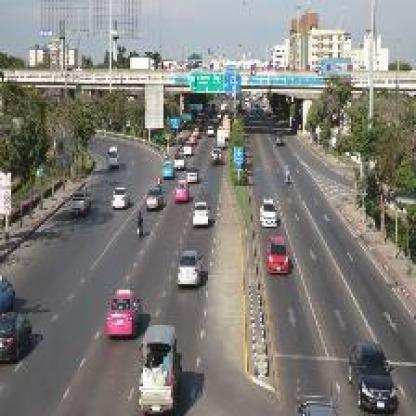other: (252, 232, 302, 278), (190, 197, 212, 225)
